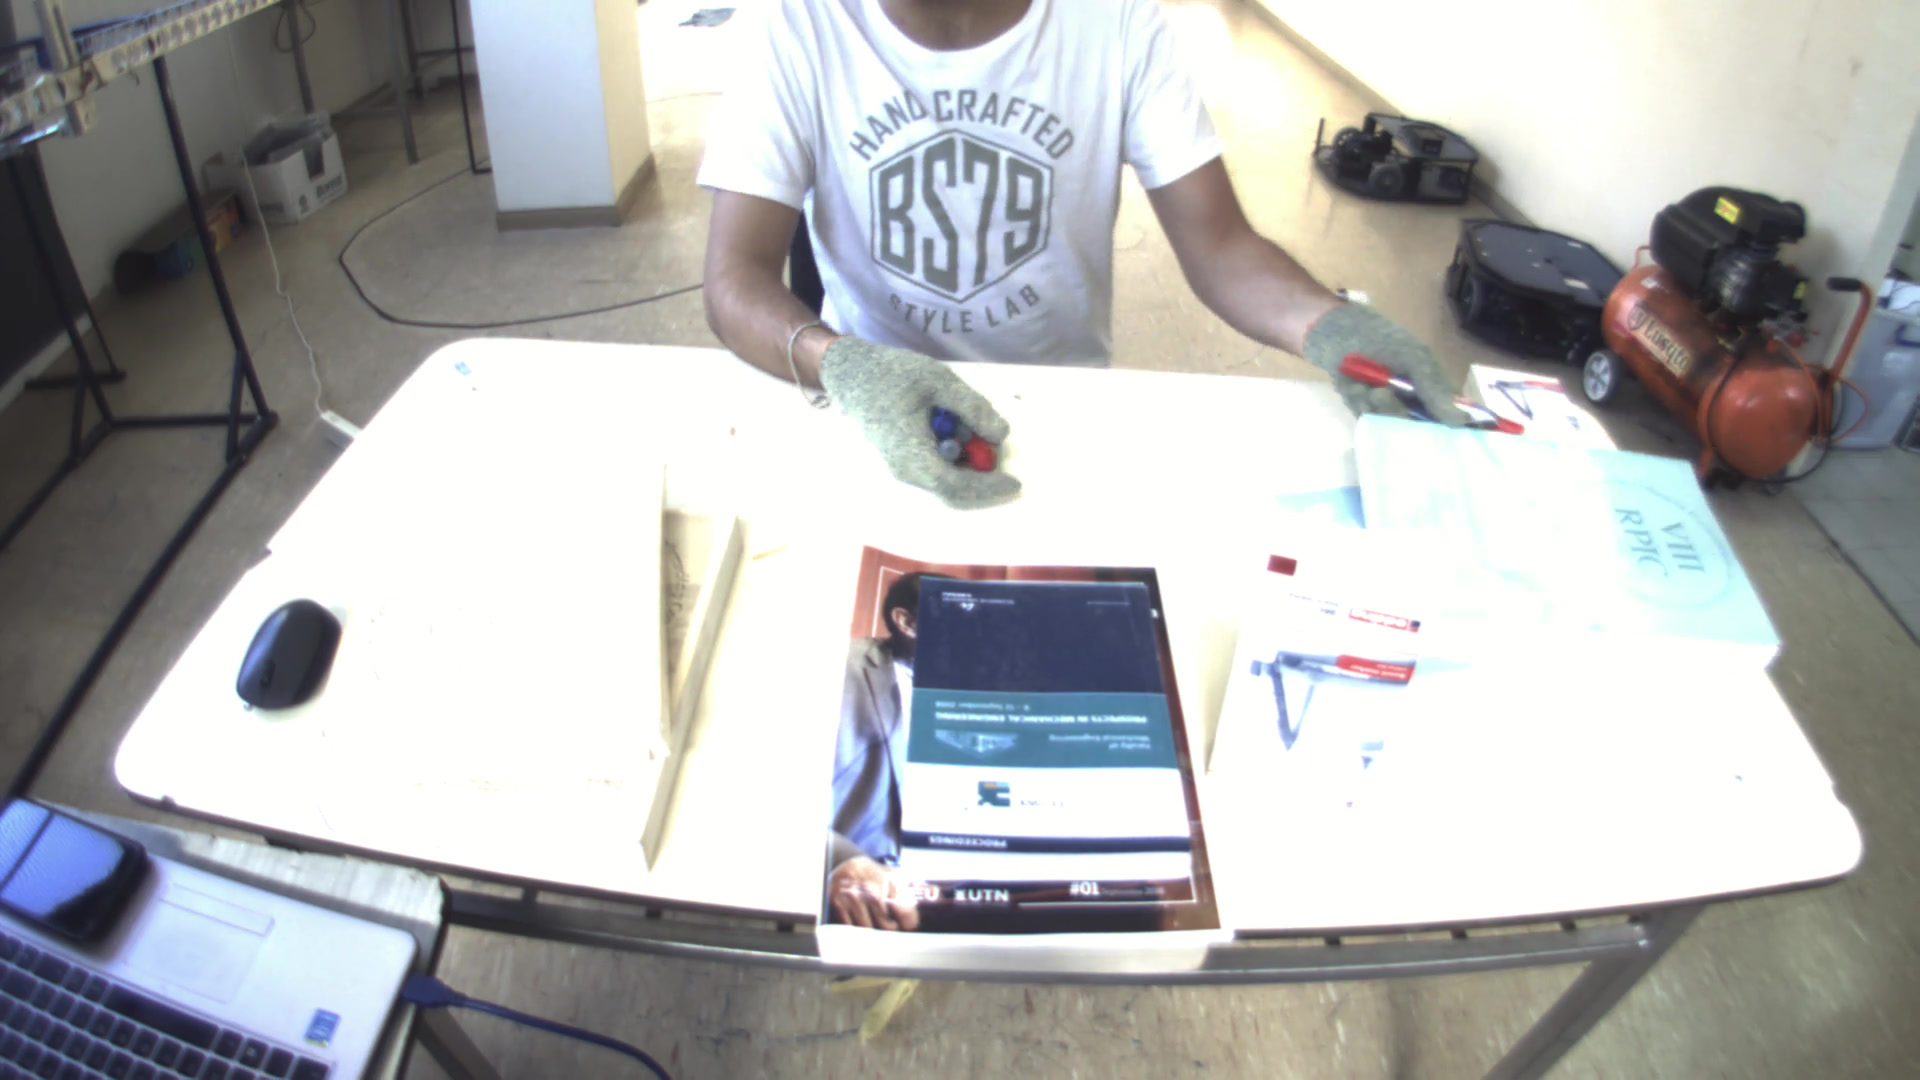hand: (806, 324, 1021, 509), (1302, 301, 1468, 433)
